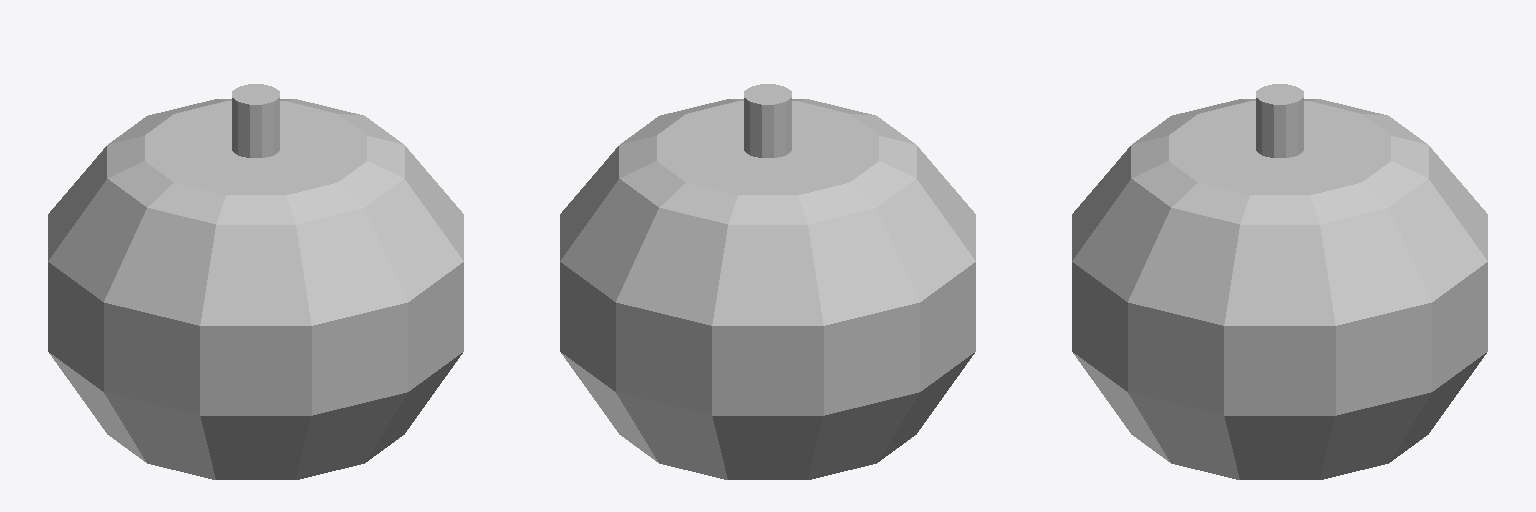
Rendered from pumpkin.obj.
3 views of the same model, side by side, from view 1: azimuth 30°, elevation 25°; view 2: azimuth 150°, elevation 25°; view 3: azimuth 270°, elevation 25° (orthographic).
Visible parts, largest first — view 1: cylinder; view 2: cylinder; view 3: cylinder.
Part boxes in pixels (x1,y1,x2,y2): cylinder: (48,84,463,479); cylinder: (560,84,975,479); cylinder: (1072,84,1487,479).
Size of the model in its own units: 0.4375 by 0.375 by 0.4375.